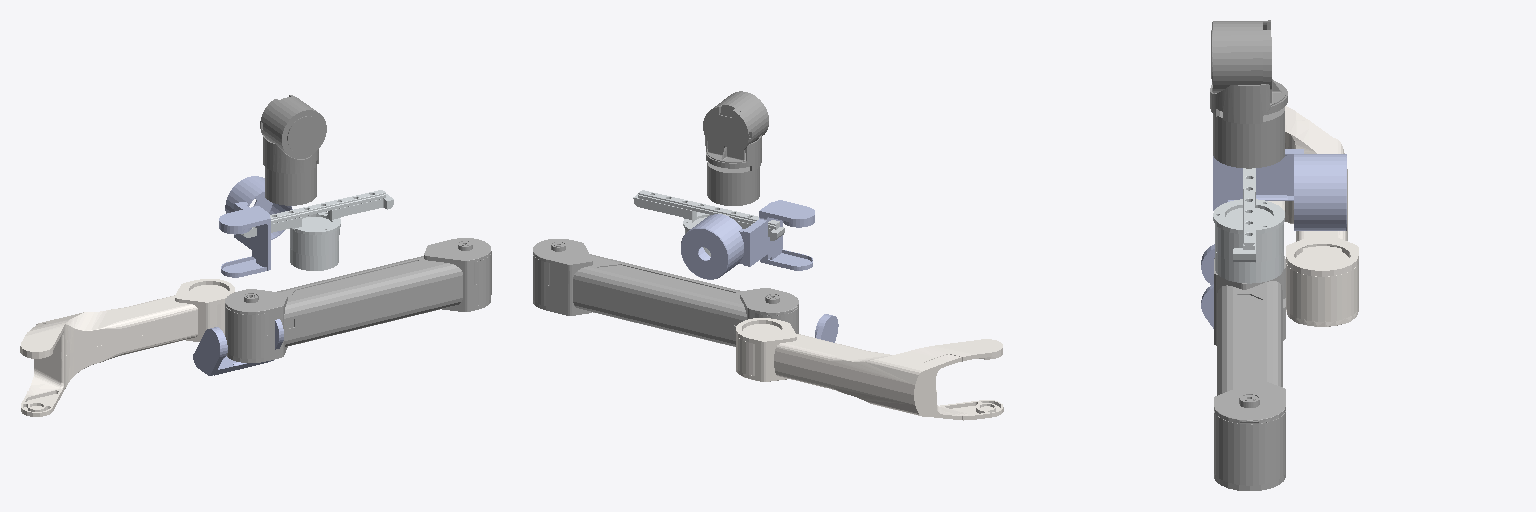
URDF robot description (X5A):
<?xml version="1.0" encoding="utf-8"?>
<!-- This URDF was automatically created by SolidWorks to URDF Exporter! Originally created by [author] ([email redacted]) 
     Commit Version: 1.6.0-4-g7f85cfe  Build Version: 1.6.7995.38578
     For more information, please see http://wiki.ros.org/sw_urdf_exporter -->
<robot
  name="X5A">
  <link
    name="base_link">
    <inertial>
      <origin
        xyz="-3.0001E-05 3.0589E-05 0.027324"
        rpy="0 0 0" />
      <mass
        value="0.43995" />
      <inertia
        ixx="0.00017"
        ixy="0.00000"
        ixz="0.00000"
        iyy="0.00017"
        iyz="0.00000"
        izz="0.00016" />
    </inertial>
    <visual>
      <origin
        xyz="0 0 0"
        rpy="0 0 0" />
      <geometry>
        <mesh
          filename="package://X5A/meshes/base_link.STL" />
      </geometry>
      <material
        name="">
        <color
          rgba="0.75294 0.75294 0.75294 1" />
      </material>
    </visual>
    <collision>
      <origin
        xyz="0 0 0"
        rpy="0 0 0" />
      <geometry>
        <mesh
          filename="package://X5A/meshes/base_link.STL" />
      </geometry>
    </collision>
  </link>
  <link
    name="link1">
    <inertial>
      <origin
        xyz="0.0054231 -0.0080289 0.017086"
        rpy="0 0 0" />
      <mass
        value="0.066982" />
      <inertia
        ixx="0.00008"
        ixy="0.00000"
        ixz="0.00001"
        iyy="0.00003"
        iyz="0.00000"
        izz="0.00008" />
    </inertial>
    <visual>
      <origin
        xyz="0 0 0"
        rpy="0 0 0" />
      <geometry>
        <mesh
          filename="package://X5A/meshes/link1.STL" />
      </geometry>
      <material
        name="">
        <color
          rgba="0.79216 0.81961 0.93333 1" />
      </material>
    </visual>
    <collision>
      <origin
        xyz="0 0 0"
        rpy="0 0 0" />
      <geometry>
        <mesh
          filename="package://X5A/meshes/link1.STL" />
      </geometry>
    </collision>
  </link>
  <joint
    name="joint1"
    type="revolute">
    <origin
      xyz="0 0 0.0605"
      rpy="0 0 0" />
    <parent
      link="base_link" />
    <child
      link="link1" />
    <axis
      xyz="0 0 1" />
    <limit
      lower="-10"
      upper="10"
      effort="100"
      velocity="1000" />
  </joint>
  <link
    name="link2">
    <inertial>
      <origin
        xyz="-0.13237 0.0020852 0.00010549"
        rpy="0 0 0" />
      <mass
        value="1.0795" />
      <inertia
        ixx="0.00051"
        ixy="0.00001"
        ixz="-0.00004"
        iyy="0.01599"
        iyz="0.00000"
        izz="0.01605" />
    </inertial>
    <visual>
      <origin
        xyz="0 0 0"
        rpy="0 0 0" />
      <geometry>
        <mesh
          filename="package://X5A/meshes/link2.STL" />
      </geometry>
      <material
        name="">
        <color
          rgba="0.75294 0.75294 0.75294 1" />
      </material>
    </visual>
    <collision>
      <origin
        xyz="0 0 0"
        rpy="0 0 0" />
      <geometry>
        <mesh
          filename="package://X5A/meshes/link2.STL" />
      </geometry>
    </collision>
  </link>
  <joint
    name="joint2"
    type="revolute">
    <origin
      xyz="0.02 0 0.04"
      rpy="0 0 0" />
    <parent
      link="link1" />
    <child
      link="link2" />
    <axis
      xyz="0 1 0" />
    <limit
      lower="-10"
      upper="10"
      effort="100"
      velocity="1000" />
  </joint>
  <link
    name="link3">
    <inertial>
      <origin
        xyz="0.18531 0.00068376 -0.051638"
        rpy="0 0 0" />
      <mass
        value="0.54534" />
      <inertia
        ixx="0.00036"
        ixy="-0.00003"
        ixz="-0.00039"
        iyy="0.00423"
        iyz="0.00001"
        izz="0.00420" />
    </inertial>
    <visual>
      <origin
        xyz="0 0 0"
        rpy="0 0 0" />
      <geometry>
        <mesh
          filename="package://X5A/meshes/link3.STL" />
      </geometry>
      <material
        name="">
        <color
          rgba="1 0.98431 0.96471 1" />
      </material>
    </visual>
    <collision>
      <origin
        xyz="0 0 0"
        rpy="0 0 0" />
      <geometry>
        <mesh
          filename="package://X5A/meshes/link3.STL" />
      </geometry>
    </collision>
  </link>
  <joint
    name="joint3"
    type="revolute">
    <origin
      xyz="-0.264 0 0"
      rpy="3.1416 0 0" />
    <parent
      link="link2" />
    <child
      link="link3" />
    <axis
      xyz="0 1 0" />
    <limit
      lower="-10"
      upper="10"
      effort="100"
      velocity="1000" />
  </joint>
  <link
    name="link4">
    <inertial>
      <origin
        xyz="0.040231 0.0044807 -0.035335"
        rpy="0 0 0" />
      <mass
        value="0.11714" />
      <inertia
        ixx="0.00019"
        ixy="-0.00002"
        ixz="-0.00009"
        iyy="0.00023"
        iyz="0.00002"
        izz="0.00014" />
    </inertial>
    <visual>
      <origin
        xyz="0 0 0"
        rpy="0 0 0" />
      <geometry>
        <mesh
          filename="package://X5A/meshes/link4.STL" />
      </geometry>
      <material
        name="">
        <color
          rgba="0.79216 0.81961 0.92941 1" />
      </material>
    </visual>
    <collision>
      <origin
        xyz="0 0 0"
        rpy="0 0 0" />
      <geometry>
        <mesh
          filename="package://X5A/meshes/link4.STL" />
      </geometry>
    </collision>
  </link>
  <joint
    name="joint4"
    type="revolute">
    <origin
      xyz="0.245 0 -0.056"
      rpy="0 0 0" />
    <parent
      link="link3" />
    <child
      link="link4" />
    <axis
      xyz="0 1 0" />
    <limit
      lower="-10"
      upper="10"
      effort="100"
      velocity="1000" />
  </joint>
  <link
    name="link5">
    <inertial>
      <origin
        xyz="0.003612 -1.5455E-05 0.055214"
        rpy="0 0 0" />
      <mass
        value="0.63488" />
      <inertia
        ixx="0.00083"
        ixy="0.00000"
        ixz="0.00007"
        iyy="0.00082"
        iyz="0.00000"
        izz="0.00026" />
    </inertial>
    <visual>
      <origin
        xyz="0 0 0"
        rpy="0 0 0" />
      <geometry>
        <mesh
          filename="package://X5A/meshes/link5.STL" />
      </geometry>
      <material
        name="">
        <color
          rgba="0.69804 0.69804 0.69804 1" />
      </material>
    </visual>
    <collision>
      <origin
        xyz="0 0 0"
        rpy="0 0 0" />
      <geometry>
        <mesh
          filename="package://X5A/meshes/link5.STL" />
      </geometry>
    </collision>
  </link>
  <joint
    name="joint5"
    type="revolute">
    <origin
      xyz="0.06775 0.0005 -0.0865"
      rpy="0 0 0" />
    <parent
      link="link4" />
    <child
      link="link5" />
    <axis
      xyz="0 0 1" />
    <limit
      lower="-10"
      upper="10"
      effort="100"
      velocity="1000" />
  </joint>
  <link
    name="link6">
    <inertial>
      <origin
        xyz="0.041697 2.4368E-05 0.00014464"
        rpy="0 0 0" />
      <mass
        value="0.44089" />
      <inertia
        ixx="0.00038"
        ixy="0.00000"
        ixz="0.00000"
        iyy="0.00028"
        iyz="0.00000"
        izz="0.00050" />
    </inertial>
    <visual>
      <origin
        xyz="0 0 0"
        rpy="0 0 0" />
      <geometry>
        <mesh
          filename="package://X5A/meshes/link6.STL" />
      </geometry>
      <material
        name="">
        <color
          rgba="0.89804 0.91765 0.92941 1" />
      </material>
    </visual>
    <collision>
      <origin
        xyz="0 0 0"
        rpy="0 0 0" />
      <geometry>
        <mesh
          filename="package://X5A/meshes/link6.STL" />
      </geometry>
    </collision>
  </link>
  <joint
    name="joint6"
    type="revolute">
    <origin
      xyz="0.02895 0 0.0865"
      rpy="-3.1416 0 0" />
    <parent
      link="link5" />
    <child
      link="link6" />
    <axis
      xyz="1 0 0" />
    <limit
      lower="-10"
      upper="10"
      effort="100"
      velocity="1000" />
  </joint>
  <link
    name="link7">
    <inertial>
      <origin
        xyz="-0.00035522 -0.007827 -0.0029883"
        rpy="0 0 0" />
      <mass
        value="0.064798" />
      <inertia
        ixx="0.00002"
        ixy="0.00000"
        ixz="0.00000"
        iyy="0.00003"
        iyz="0.00000"
        izz="0.00003" />
    </inertial>
    <visual>
      <origin
        xyz="0 0 0"
        rpy="0 0 0" />
      <geometry>
        <mesh
          filename="package://X5A/meshes/link7.STL" />
      </geometry>
      <material
        name="">
        <color
          rgba="1 1 1 1" />
      </material>
    </visual>
    <collision>
      <origin
        xyz="0 0 0"
        rpy="0 0 0" />
      <geometry>
        <mesh
          filename="package://X5A/meshes/link7.STL" />
      </geometry>
    </collision>
  </link>
  <joint
    name="joint7"
    type="prismatic">
    <origin
      xyz="0.08657 0.024896 -0.0002436"
      rpy="0 0 0" />
    <parent
      link="link6" />
    <child
      link="link7" />
    <axis
      xyz="0 1 0" />
    <limit
      lower="0"
      upper="0.044"
      effort="100"
      velocity="1000" />
  </joint>
  <link
    name="link8">
    <inertial>
      <origin
        xyz="-0.00035522 0.0078277 0.0024201"
        rpy="0 0 0" />
      <mass
        value="0.064798" />
      <inertia
        ixx="0.00002"
        ixy="0.00000"
        ixz="0.00000"
        iyy="0.00003"
        iyz="0.00000"
        izz="0.00003" />
    </inertial>
    <visual>
      <origin
        xyz="0 0 0"
        rpy="0 0 0" />
      <geometry>
        <mesh
          filename="package://X5A/meshes/link8.STL" />
      </geometry>
      <material
        name="">
        <color
          rgba="1 1 1 1" />
      </material>
    </visual>
    <collision>
      <origin
        xyz="0 0 0"
        rpy="0 0 0" />
      <geometry>
        <mesh
          filename="package://X5A/meshes/link8.STL" />
      </geometry>
    </collision>
  </link>
  <joint
    name="joint8"
    type="prismatic">
    <origin
      xyz="0.08657 -0.0249 -0.00024366"
      rpy="0 0 0" />
    <parent
      link="link6" />
    <child
      link="link8" />
    <axis
      xyz="0 -1 0" />
    <limit
      lower="0"
      upper="0.044"
      effort="100"
      velocity="1000" />
  </joint>
</robot>

--- Facts derived from the render (not from the file) ---
Views: 3 orthographic renders of the robot side by side, from view 1: azimuth 30°, elevation 25°; view 2: azimuth 150°, elevation 25°; view 3: azimuth 270°, elevation 25°.
Robot: X5A — 9 links, 8 joints (6 revolute, 2 prismatic); root link base_link; default pose: all joints at 0.
Visible links, largest first — view 1: link2, link3, link5, link6, link4, link1; view 2: link2, link3, link4, link5, link6, link1; view 3: link2, link5, link3, link4, link6, link1.
Link boxes in pixels (x1,y1,x2,y2): link2: (225,238,491,362); link3: (20,279,234,416); link5: (260,95,326,205); link6: (241,190,393,270); link4: (219,176,292,277); link1: (193,319,283,375); link2: (533,239,798,346); link3: (736,318,1003,420); link4: (681,200,814,279); link5: (703,91,768,205); link6: (633,190,784,256); link1: (815,314,838,342); link2: (1214,256,1285,490); link5: (1210,20,1287,168); link3: (1268,106,1358,326); link4: (1213,149,1346,230); link6: (1213,168,1284,283); link1: (1201,244,1214,328).
Bounding box of the posed robot: 0.5735 × 0.1214 × 0.2935 m (x, y, z).
6 mesh visuals loaded from 9 distinct referenced files (6 binary STL); not drawn: 3 (reference not matched to a file when rendering).